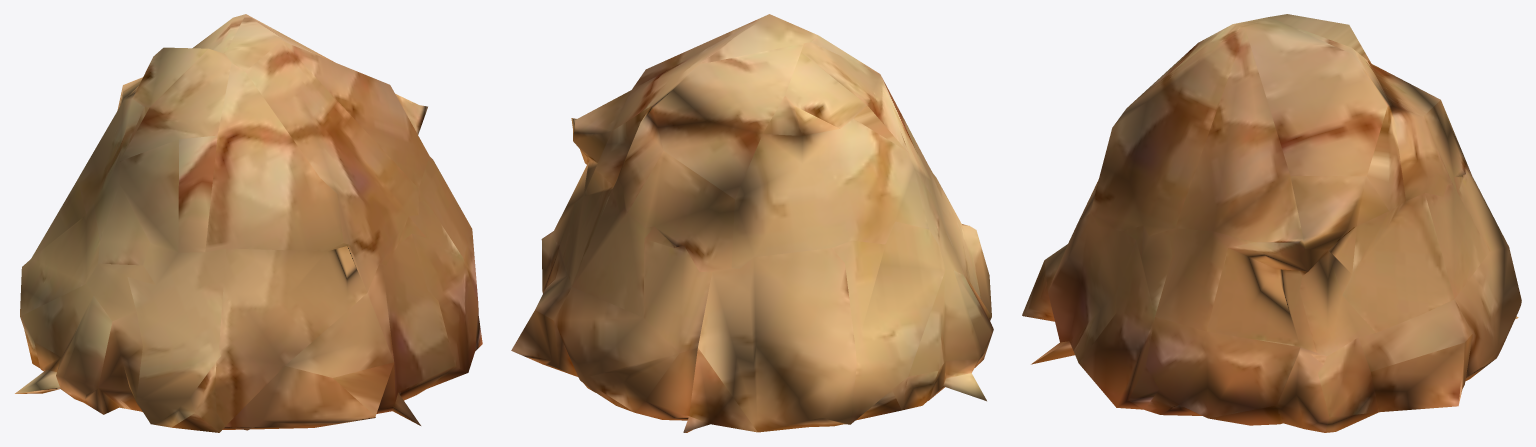
The model's file is haystack.glb.
The picture shows the model from 3 angles, left to right: view 1: azimuth 30°, elevation 25°; view 2: azimuth 150°, elevation 25°; view 3: azimuth 270°, elevation 25°; orthographic projection.
Visible parts, largest first — view 1: tripo_node_39d8f1ea-426a-4424-84b4-9575b4215786; view 2: tripo_node_39d8f1ea-426a-4424-84b4-9575b4215786; view 3: tripo_node_39d8f1ea-426a-4424-84b4-9575b4215786.
Boxes of the visible parts, bbox=[...] form: tripo_node_39d8f1ea-426a-4424-84b4-9575b4215786: bbox=[15, 14, 482, 432]; tripo_node_39d8f1ea-426a-4424-84b4-9575b4215786: bbox=[511, 14, 993, 432]; tripo_node_39d8f1ea-426a-4424-84b4-9575b4215786: bbox=[1022, 14, 1521, 432].
Bounding box in the file's own units: 0.9375 × 0.6491 × 0.9221.
Materials: 1 (1 with a texture image).
